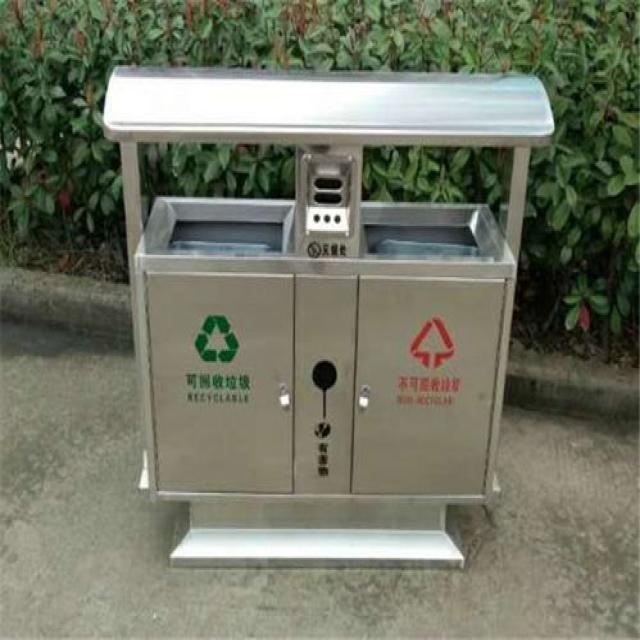garbage_bin: (100, 61, 554, 566)
